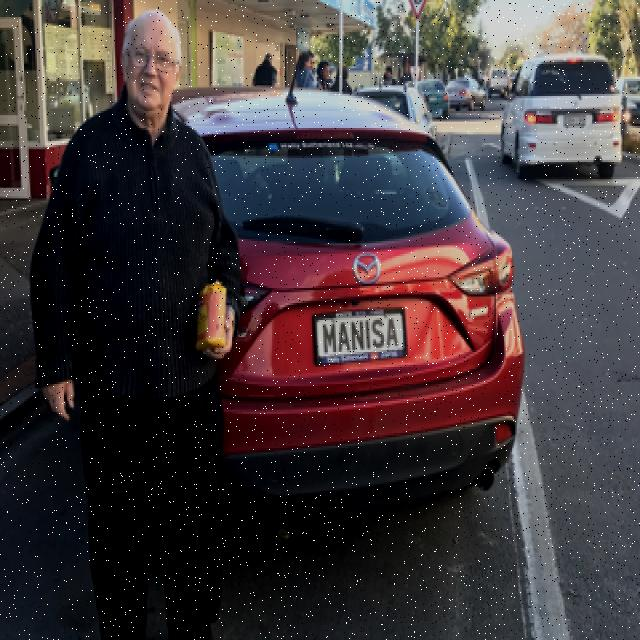Autre: (312, 307, 413, 356)
